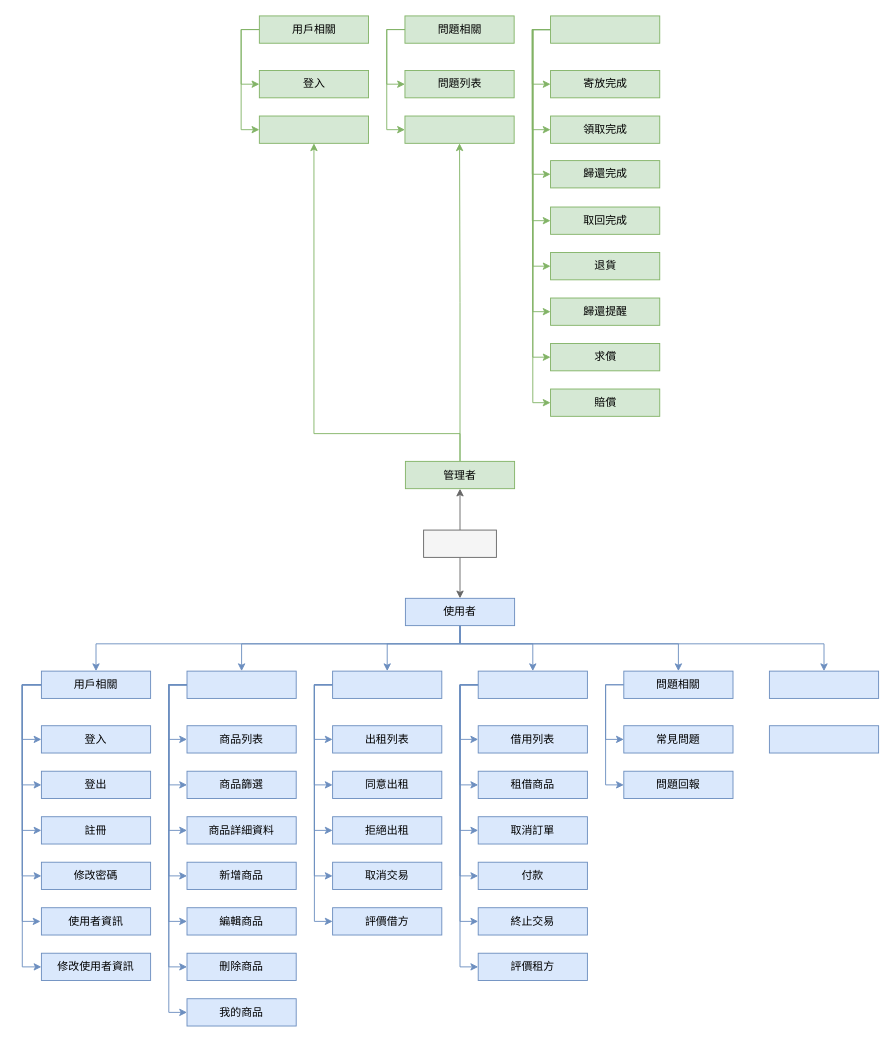
The diagram is 895 pixels wide and 1042 high, and some of its shapes have lost their labels. Each missing label, with the box of its shape:
借借露: (423, 529, 496, 557)
借用相關: (477, 670, 587, 698)
出租相關: (332, 670, 442, 698)
商品相關: (186, 670, 296, 698)
問題回覆: (404, 115, 514, 143)
訂單管理: (550, 15, 660, 43)
通知列表: (768, 725, 879, 753)
通知相關: (768, 670, 879, 698)
黑名單: (258, 115, 369, 143)
